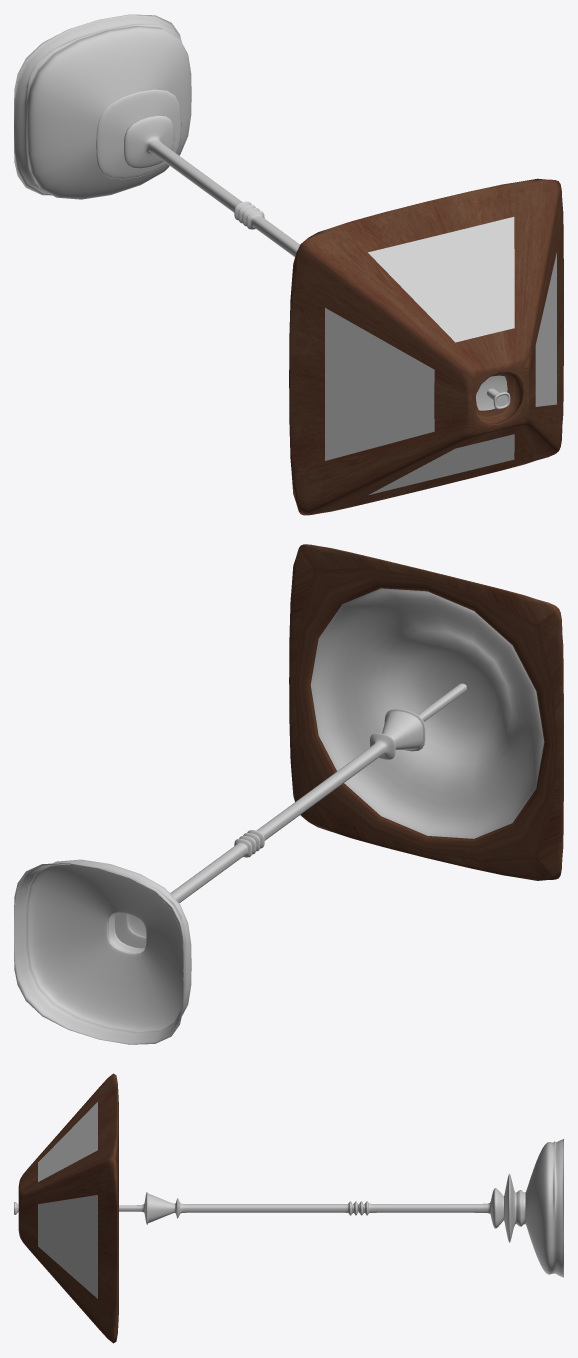
File: lamp.obj
3 renders of one model, top to bottom at view 1: azimuth 30°, elevation 25°; view 2: azimuth 150°, elevation 25°; view 3: azimuth 270°, elevation 25°, orthographic. The views are drawn at different scales.
Parts seen in each view (by area): view 1: lamp; view 2: lamp; view 3: lamp.
Part boxes in pixels (x1,y1,x2,y2): lamp: (14,14,563,515); lamp: (14,544,563,1044); lamp: (14,1073,563,1343).
Size of the model in its own units: 0.6079 by 0.6079 by 1.55.
